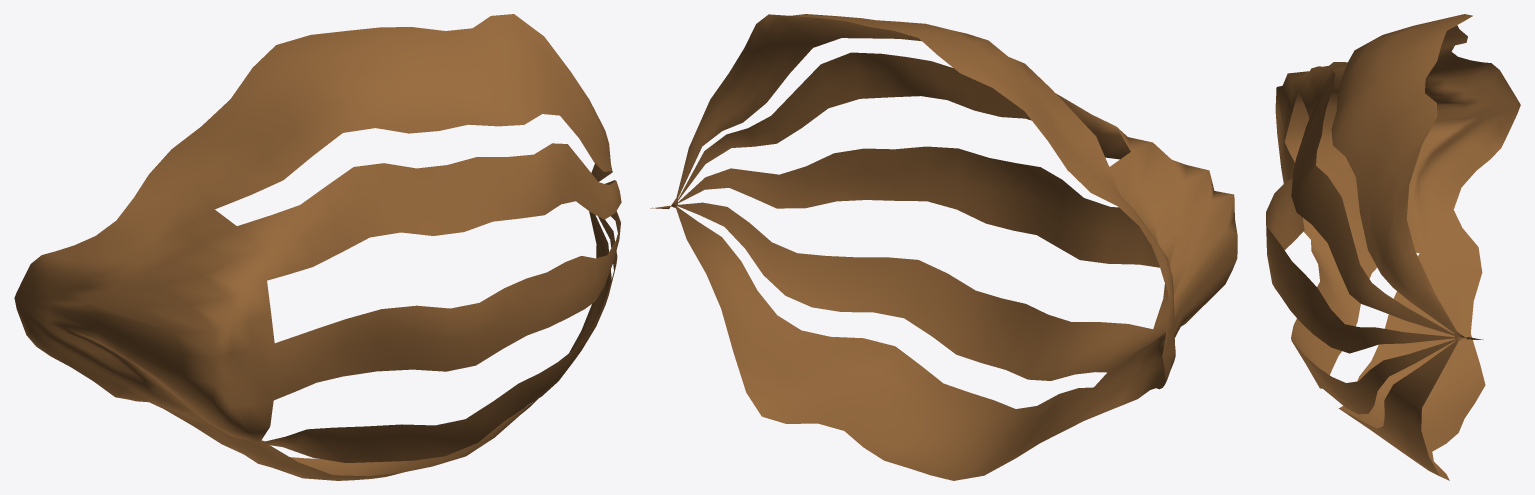
File: thorax_body.obj
The picture shows the model from 3 angles, left to right: view 1: azimuth 30°, elevation 25°; view 2: azimuth 150°, elevation 25°; view 3: azimuth 270°, elevation 25°; orthographic projection. The views are drawn at different scales.
Size of the model in its own units: 0.1135 by 0.0865 by 0.0513.
